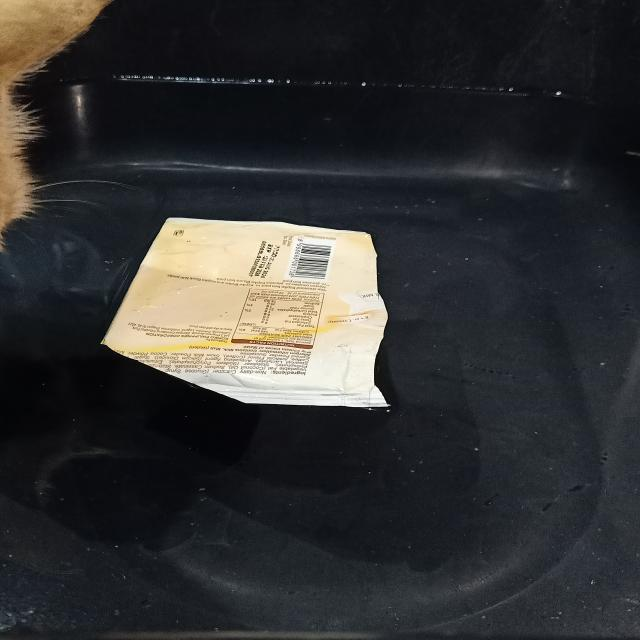Plastic Wrapper: (101, 218, 388, 408)
